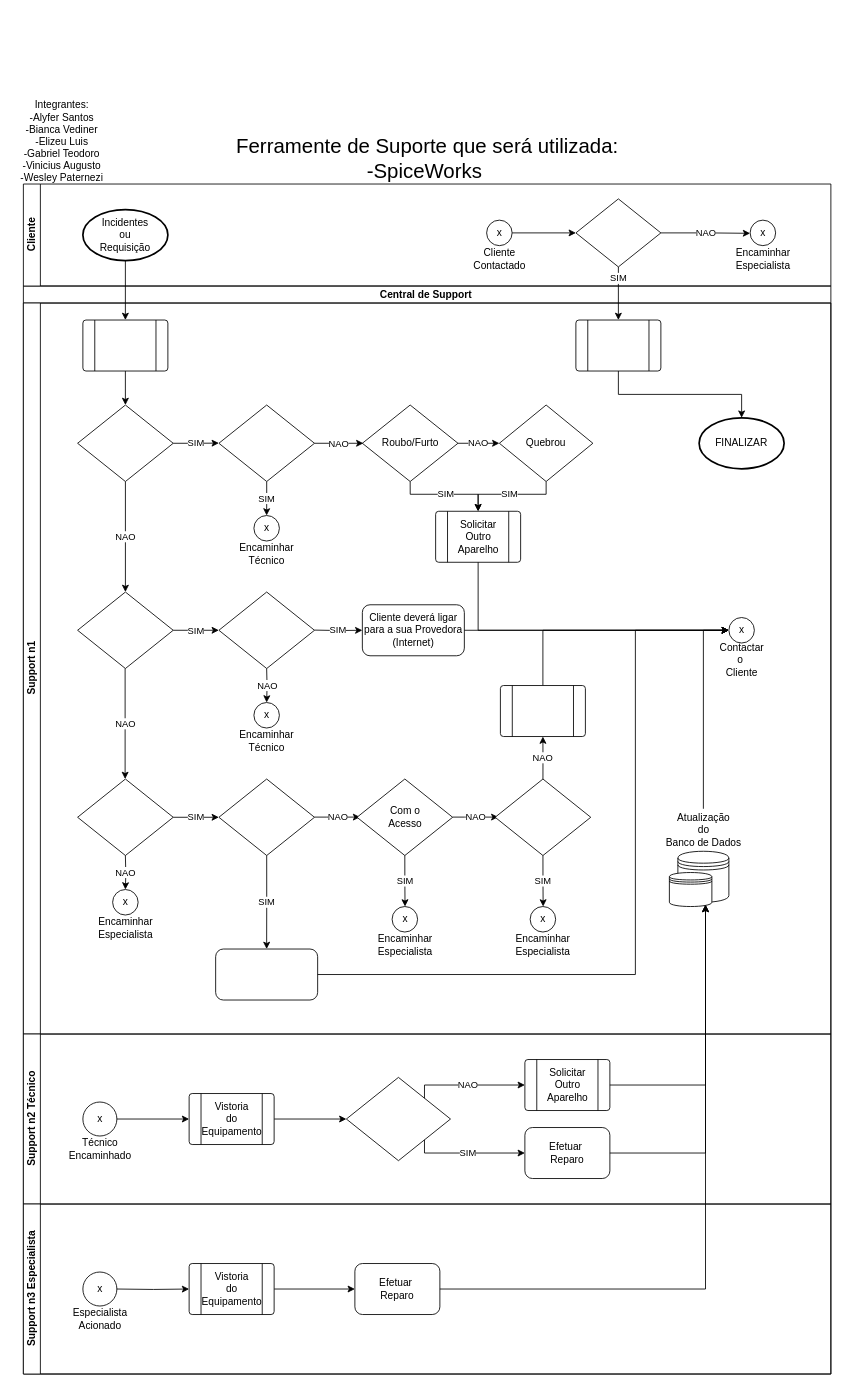
The diagram is 846 pixels wide and 1389 high, and some of its shapes have lost their labels. The centre of each missing label's shape, as x and y in pixels:
"Com a Aplicação" belongs at point 125,817.
"Com a Dashboard" belongs at point 542,817.
"Com a Rede" belongs at point 125,630.
"Com as Credênciais" belongs at point 266,817.
"Com o Equipamento" belongs at point 125,443.
"Finalizar o processo" belongs at point 618,345.
"Funcionou ?" belongs at point 618,232.
"Há Conexão de Internet na Residencia" belongs at point 266,630.
"Limpar o Cache" belongs at point 542,711.
"Mal-funcionamento" belongs at point 266,443.
"Redefinição de Senha" belongs at point 266,974.
"Registrar o processo" belongs at point 125,345.
"É Possivel efetuar o Reparo?" belongs at point 398,1119.
